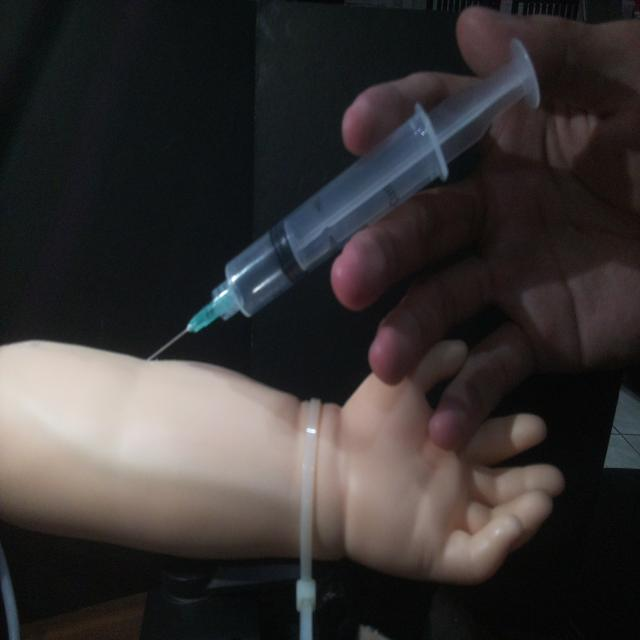25deg: (142, 34, 544, 364)
